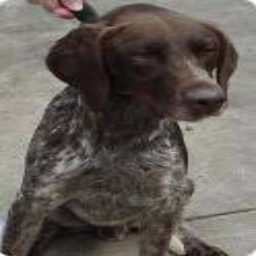dog: (3, 6, 237, 256)
